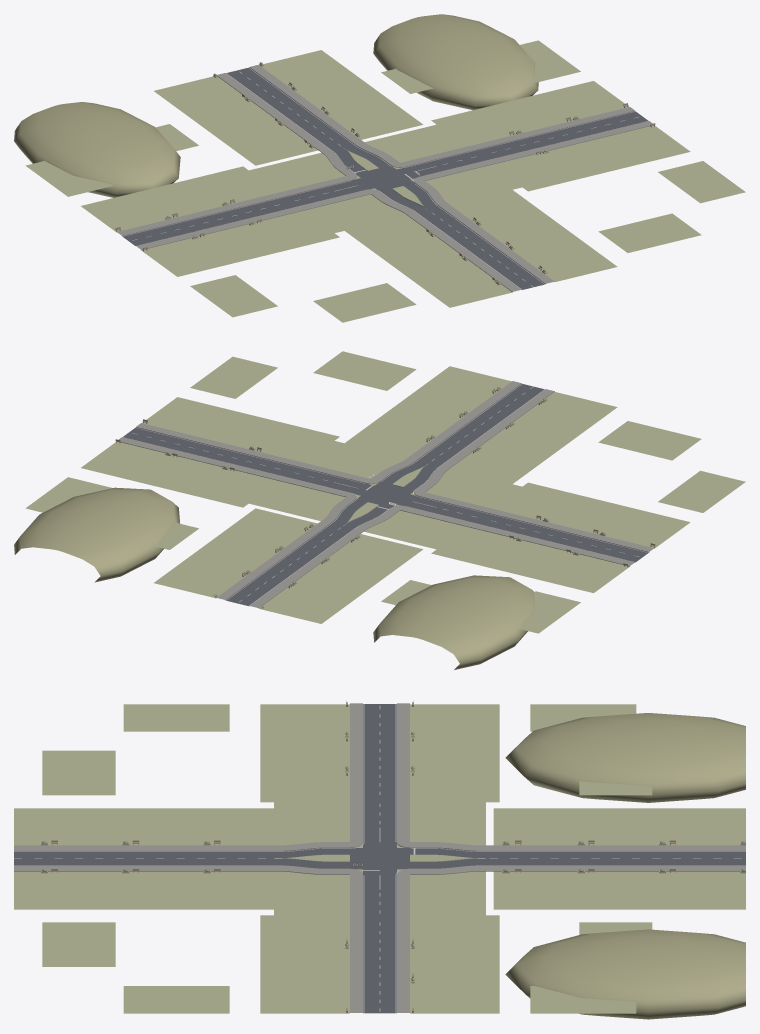
3 views of the same model, one above another, from view 1: azimuth 30°, elevation 25°; view 2: azimuth 150°, elevation 25°; view 3: azimuth 270°, elevation 25° (orthographic). The views are drawn at different scales.
Parts seen in each view (by area): view 1: static; view 2: static; view 3: static.
Part boxes in pixels (x1,y1,x2,y2): static: [14, 14, 745, 322]; static: [14, 351, 745, 669]; static: [14, 700, 745, 1019].
Size of what is drawn, in the model's own units: 180 by 14.08 by 180.
Materials: 3 (2 with a texture image).
